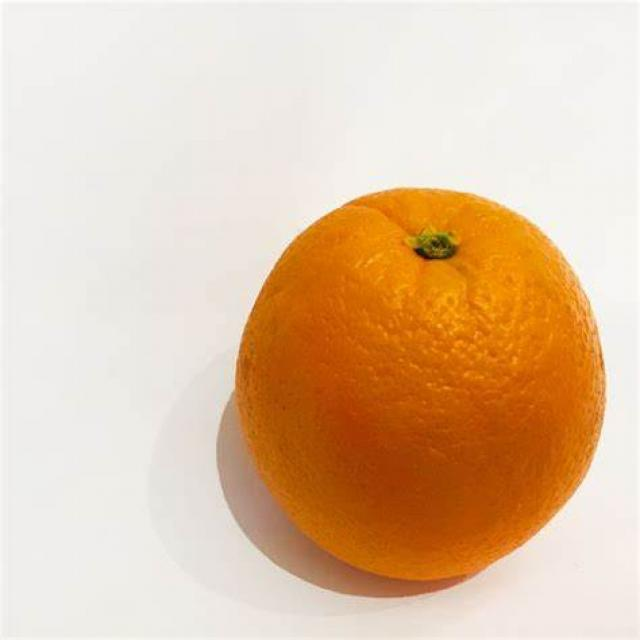Orange: (231, 188, 608, 586)
